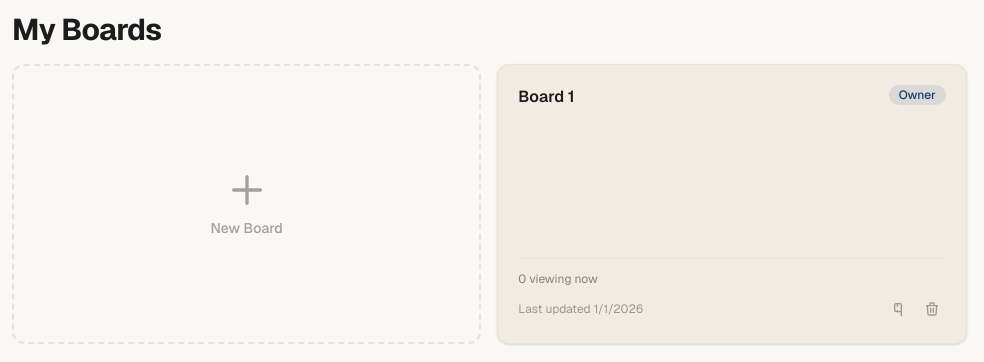
Test: BoardList integration › delete flow: click delete → board removed from DOM
Expected: the heading "Board 1" is shown, left=518, top=86, right=575, bottom=107
Click the button titled "Delete board" at (932, 309), box left=918, top=295, right=946, bottom=323
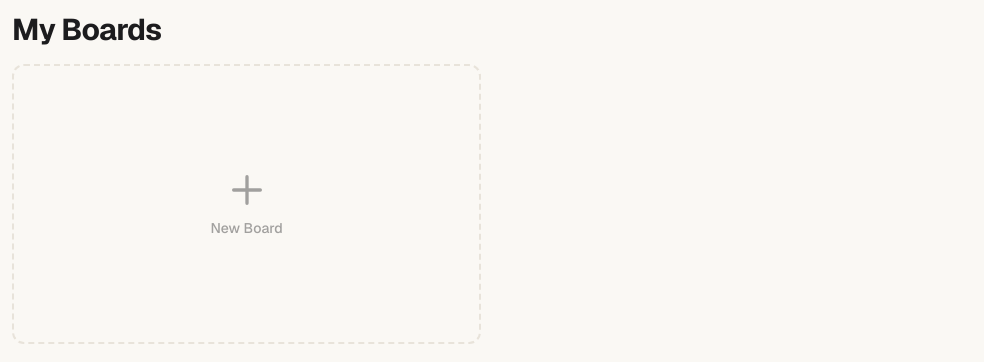
Now the button "Board 1" is gone
